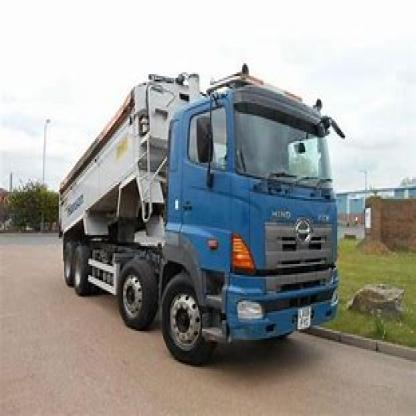dump_truck: (46, 56, 342, 371)
